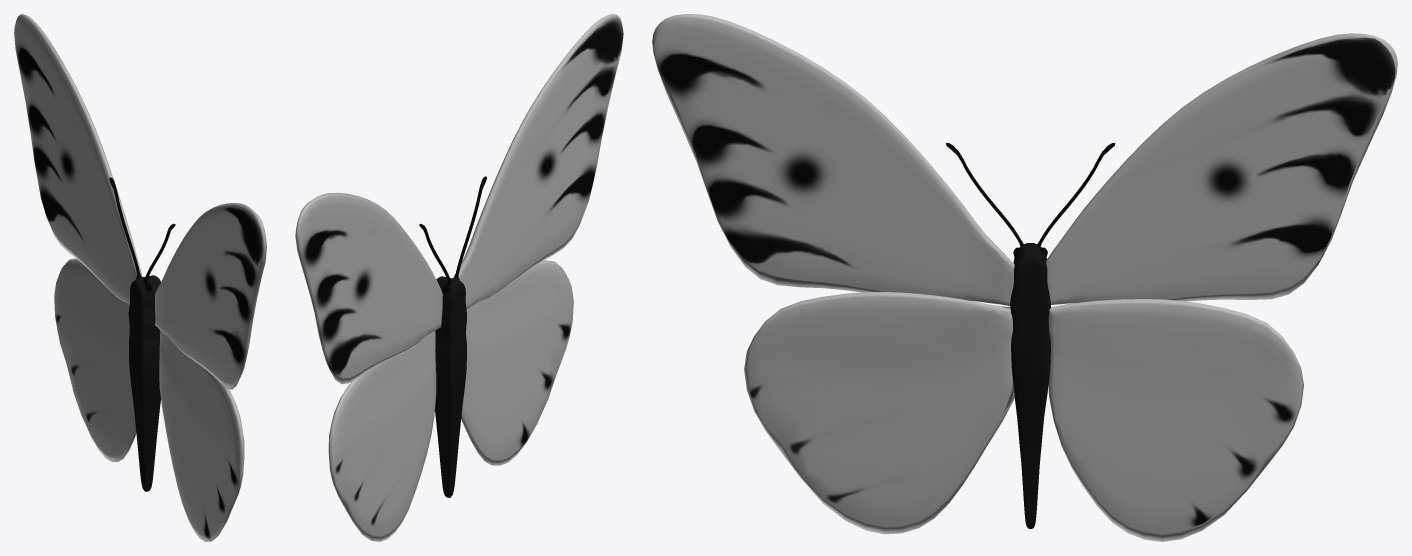
File: ButterflyModel_PierisCanidia.fbx
3 views of the same model, side by side, from view 1: azimuth 30°, elevation 25°; view 2: azimuth 150°, elevation 25°; view 3: azimuth 270°, elevation 25° (orthographic). The views are drawn at different scales.
Visible parts, largest first — view 1: polySurface2, polySurface4, polySurface3; view 2: polySurface4, polySurface2, polySurface3; view 3: polySurface4, polySurface2, polySurface3.
Boxes of the visible parts, bbox=[...] form: polySurface2: bbox=[14, 14, 142, 461]; polySurface4: bbox=[155, 203, 266, 541]; polySurface3: bbox=[109, 177, 175, 491]; polySurface4: bbox=[453, 14, 623, 465]; polySurface2: bbox=[295, 192, 442, 541]; polySurface3: bbox=[419, 176, 486, 497]; polySurface4: bbox=[652, 14, 1014, 534]; polySurface2: bbox=[1046, 33, 1397, 541]; polySurface3: bbox=[946, 143, 1115, 528].
Bounding box in the file's own units: 1.31 × 11 × 14.65.
